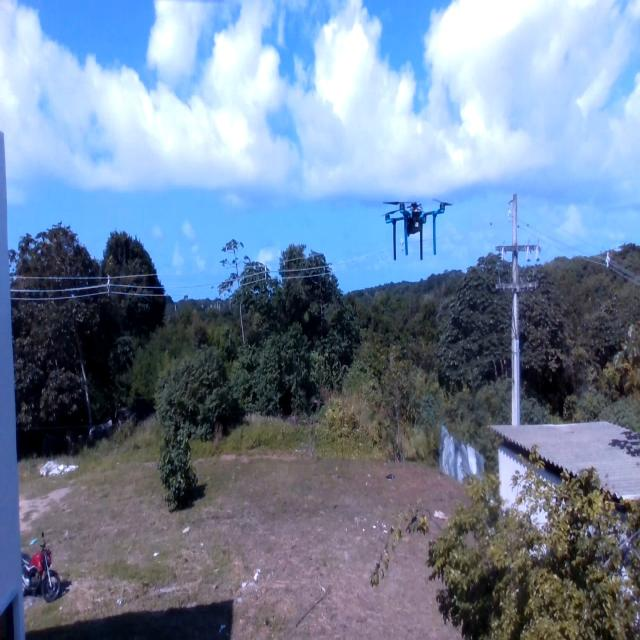-uav-: (368, 174, 456, 274)
